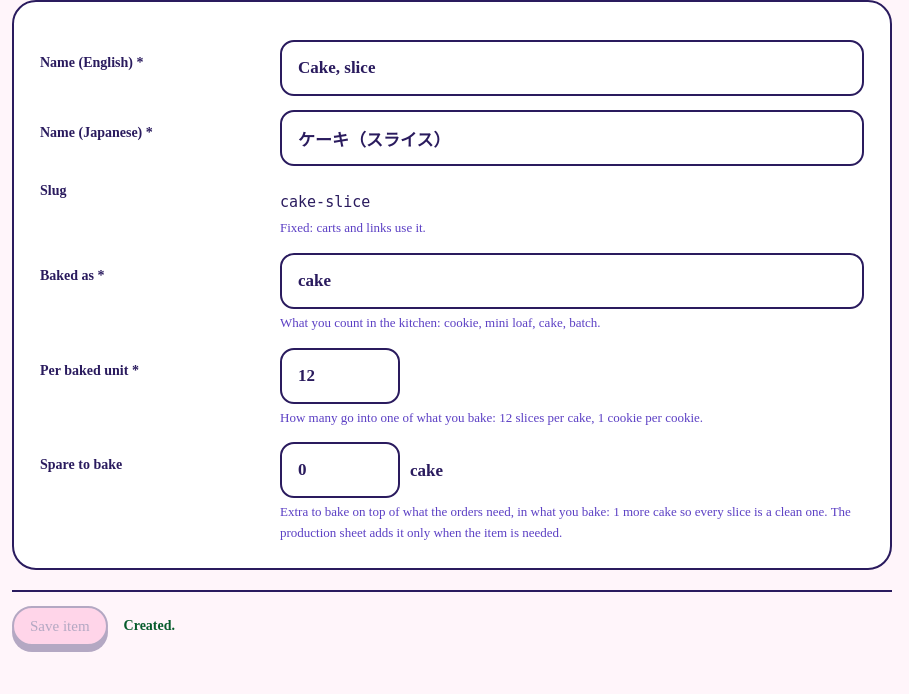
Test case: ItemForm › edits an item without offering to change its slug, and says when the server turns a field down
Expected: the text "cake-slice" is shown, [280, 193, 370, 211]
Step 1. Replace the text in the field labelled "Per baked unit *" with "0" → (340, 376), box [280, 348, 400, 404]
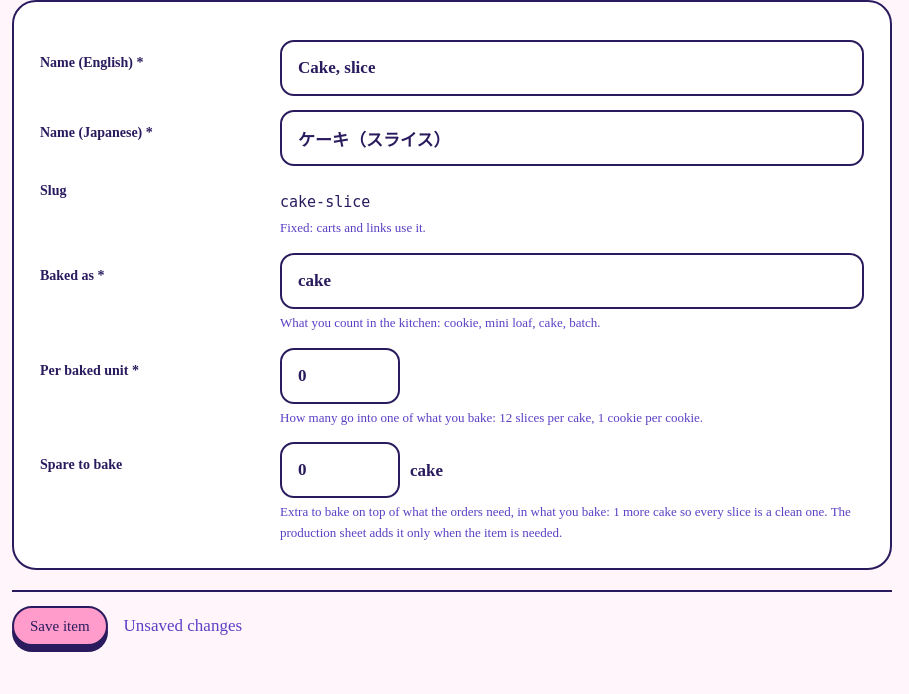
Step 2. Click the button "Save item" → (60, 626), box [12, 606, 108, 646]
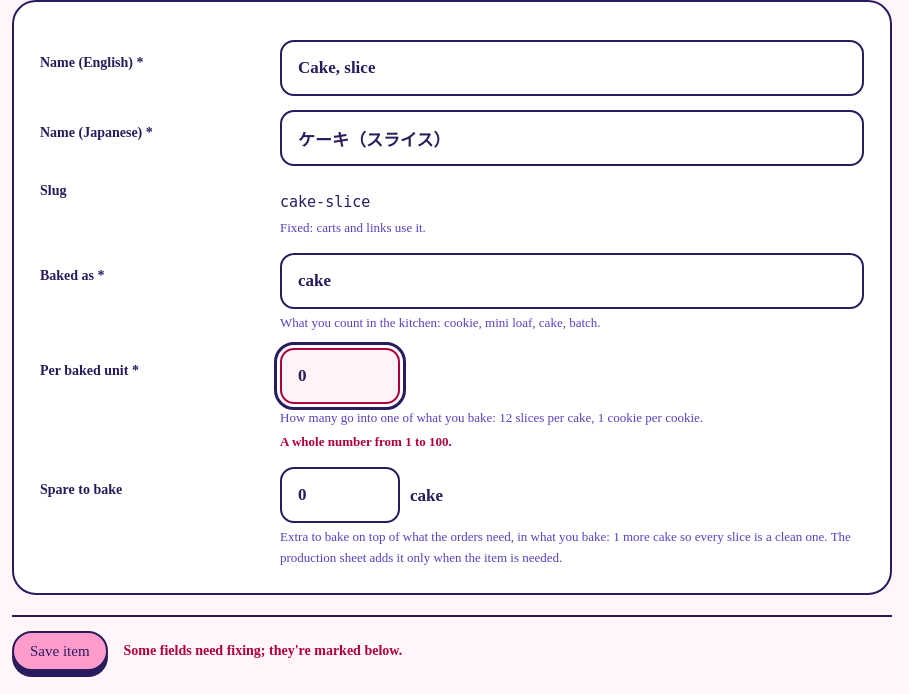
Expected: the text "A whole number from 1 to 100." is shown, [280, 434, 452, 449]
Step 3. Replace the text in the field labelled "Per baked unit *" with "8" → (340, 376), box [280, 348, 400, 404]
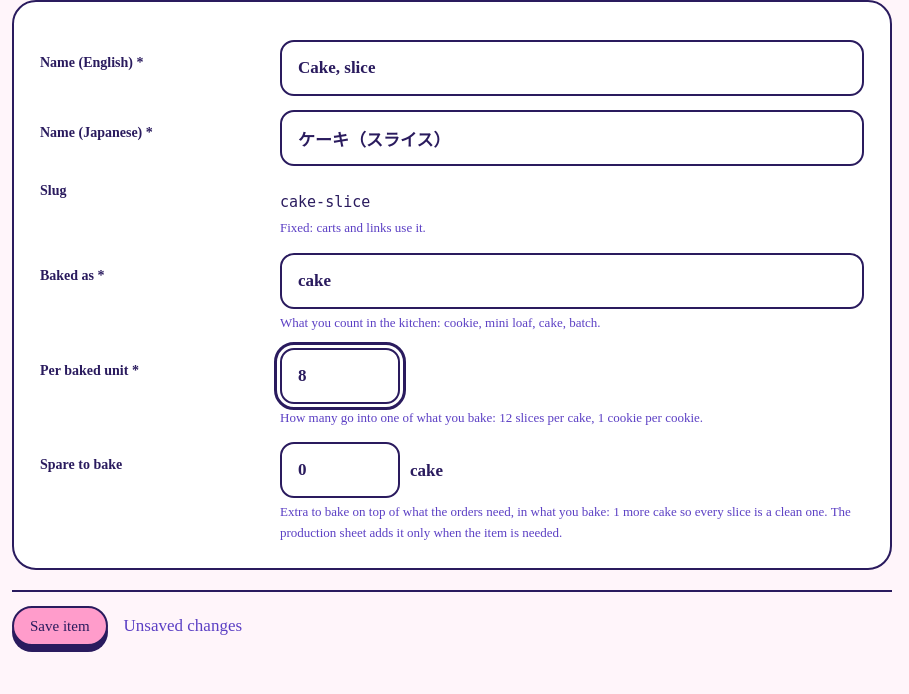
Step 4. Click the button "Save item" → (60, 626), box [12, 606, 108, 646]
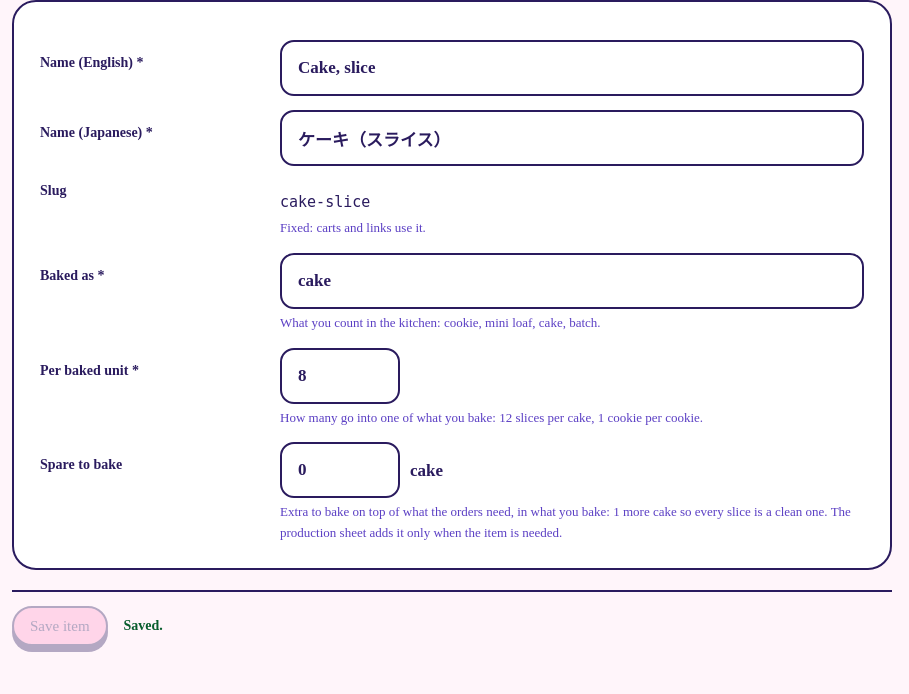
Expected: the message reads "Saved.", [124, 618, 163, 633]
